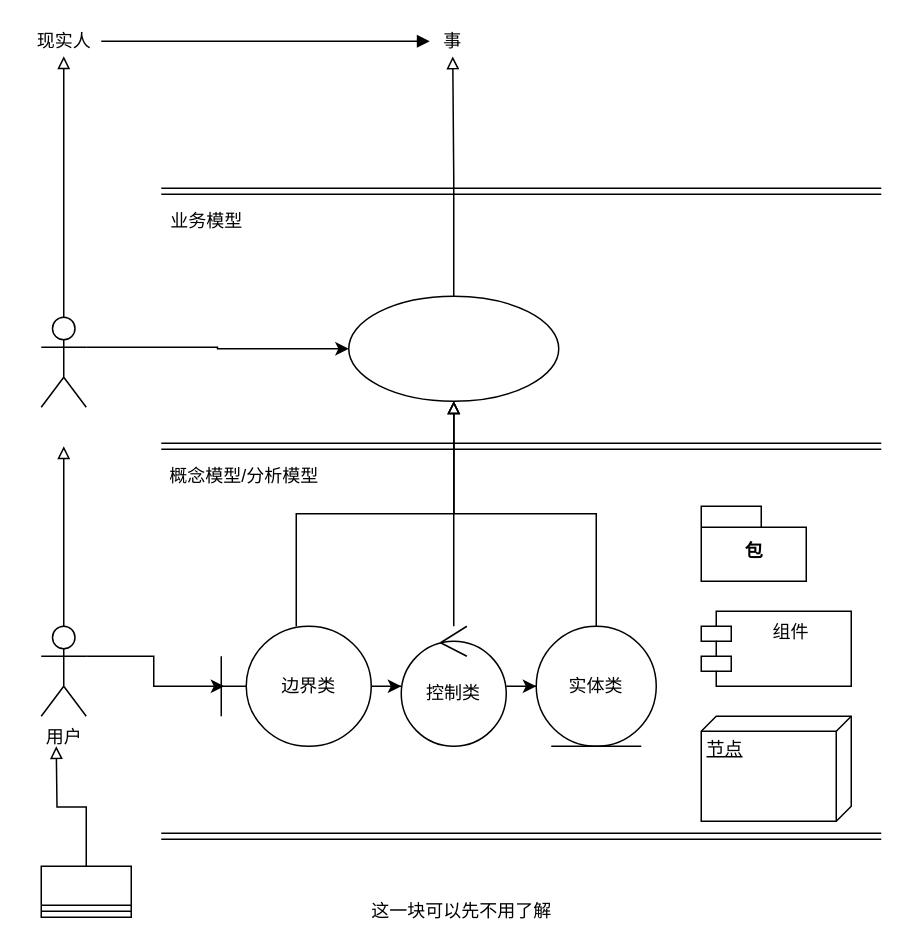
This 908x951 diagram has some shape labels left out. The shapes that lost their labels are listed below. From the top down, each one's centre as x and y in pixels, then its label:
point (63, 361): 参与者
point (453, 348): 用例
point (85, 891): role
